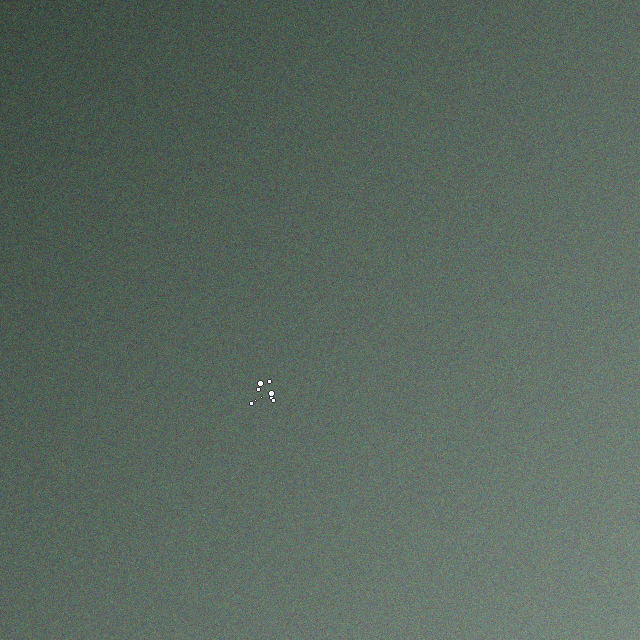particle: (239, 375, 281, 417)
